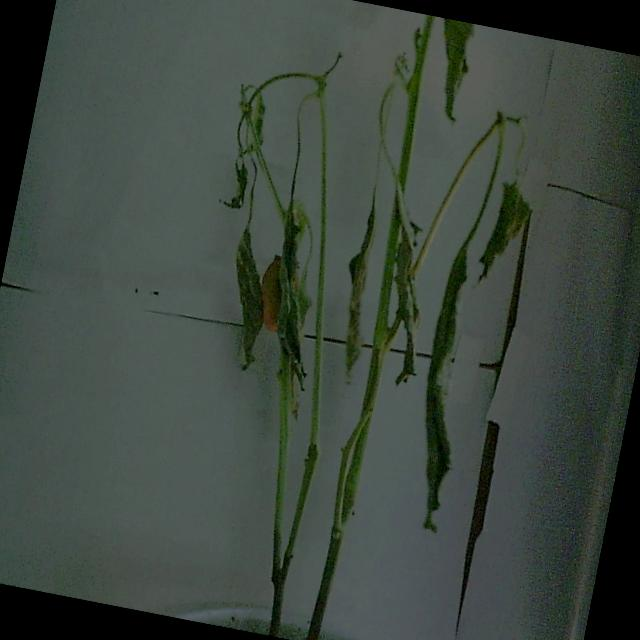Leaf: (244, 204, 342, 425), (400, 362, 470, 532), (212, 210, 282, 374), (327, 203, 387, 380), (424, 236, 476, 389), (478, 177, 536, 286), (218, 154, 253, 212), (408, 23, 426, 62)
